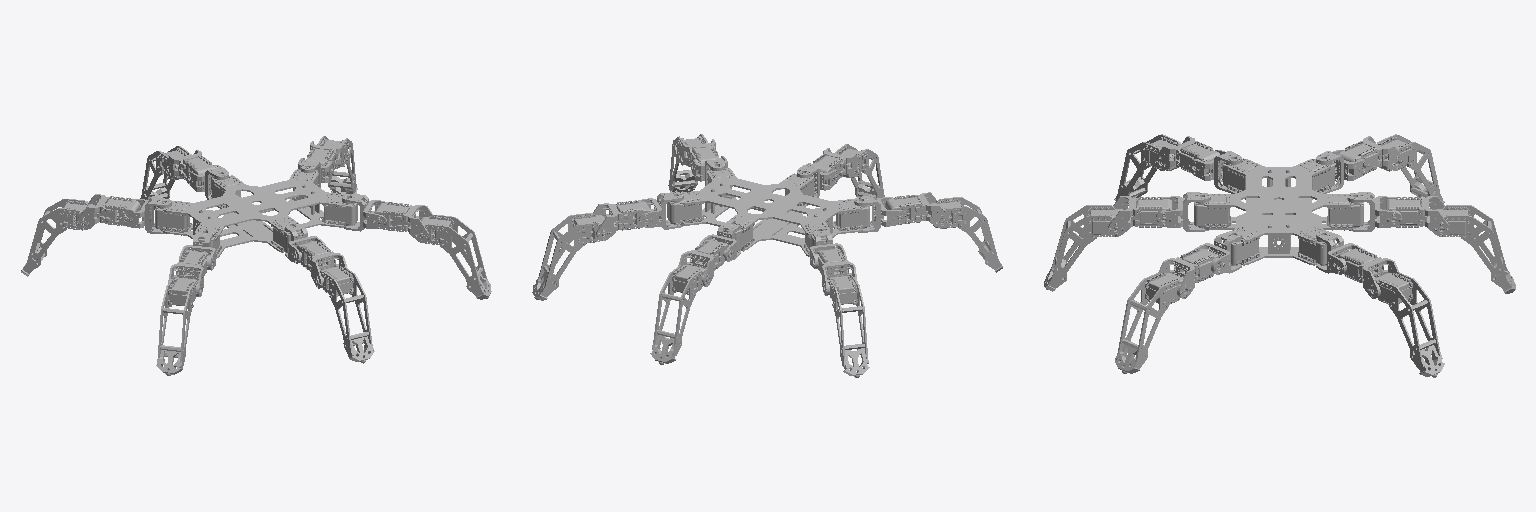
--- Render facts (derived) ---
Views: 3 orthographic renders of the robot side by side, from view 1: azimuth 30°, elevation 25°; view 2: azimuth 150°, elevation 25°; view 3: azimuth 270°, elevation 25°.
Model hexapod with 20 links and 19 joints (18 revolute, 1 fixed), rooted at world, posed all joints at 0.
Links seen in each view (by area): view 1: torso, RM_foot, RF_foot, RB_foot, LB_foot, RF_calf, LB_calf, LM_foot, RM_calf, LF_foot, LB_thigh, RB_calf (+7 smaller); view 2: torso, LM_foot, LF_foot, LB_foot, RB_foot, LF_calf, RB_calf, RM_foot, LM_calf, RB_thigh, RF_foot, LB_calf (+7 smaller); view 3: torso, LF_foot, RF_foot, LM_foot, RM_foot, LB_foot, RB_foot, RM_calf, LM_calf, RF_calf, LF_calf, LB_calf (+7 smaller).
Link boxes in pixels (x1,y1,x2,y2): torso: (155,169,357,258); RM_foot: (320,266,374,363); RF_foot: (421,215,491,299); RB_foot: (156,277,197,375); LB_foot: (21,199,97,276); RF_calf: (374,202,432,242); LB_calf: (76,194,139,229); LM_foot: (140,146,191,209); RM_calf: (297,241,346,288); LF_foot: (317,136,357,193); LB_thigh: (119,197,171,233); RB_calf: (168,250,207,296); torso: (667,168,869,256); LM_foot: (650,265,705,364); LF_foot: (532,213,608,300); LB_foot: (828,276,869,377); RB_foot: (928,197,1002,272); LF_calf: (593,200,651,240); RB_calf: (885,192,948,228); RM_foot: (835,144,884,205); LM_calf: (678,240,728,286); RB_thigh: (854,195,906,232); RF_foot: (668,134,707,192); LB_calf: (817,249,857,295); torso: (1194,158,1363,265); LF_foot: (1375,272,1444,377); RF_foot: (1115,272,1183,373); LM_foot: (1435,205,1515,293); RM_foot: (1044,205,1122,291); LB_foot: (1377,134,1444,206); RB_foot: (1114,134,1180,205); RM_calf: (1108,196,1172,236); LM_calf: (1386,196,1449,236); RF_calf: (1158,248,1219,298); LF_calf: (1338,248,1398,298); LB_calf: (1338,136,1402,173).
Size in the robot's own frame: 0.5707 by 0.6368 by 0.1445 metres.
19 mesh visuals loaded from 19 distinct referenced files (19 OBJ).

URDF robot description (hexapod):
<?xml version="1.0" encoding="utf-8"?>
<robot name="hexapod">
    <link name="world"/>
    <joint name="base_static_joint" type="fixed">
        <origin rpy="1.570796 0 1.570796" xyz="0 0 1.0"/>
        <parent link="world"/>
        <child link="torso"/>
    </joint>
    <link
    name="torso">
    <inertial>
      <origin
        xyz="0 0 0"
        rpy="0 0 0" />
      <mass
        value="0.731212290700735" />
      <inertia
        ixx="0.0016575064168216"
        ixy="2.75745412968942E-16"
        ixz="-2.62507796666836E-08"
        iyy="0.00222717882817625"
        iyz="-1.46660187871453E-10"
        izz="0.000634194193879194" />
    </inertial>
    <visual>
      <origin
        xyz="0 0 0"
        rpy="0 0 0" />
      <geometry>
        <mesh
          filename="../meshes/torso.obj" />
      </geometry>
      <material
        name="">
        <color
          rgba="0.752941176470588 0.752941176470588 0.752941176470588 1" />
      </material>
    </visual>
    <collision>
      <origin
        xyz="0 0 0"
        rpy="0 0 0" />
      <geometry>
        <mesh
          filename="../meshes/torso.obj" />
      </geometry>
    </collision>
  </link>
  <link
    name="LF_thigh">
    <inertial>
      <origin
        xyz="-0.0189187135333139 0.000478712531283593 -0.0260043189660494"
        rpy="0 0 0" />
      <mass
        value="0.0376750978794186" />
      <inertia
        ixx="1.0382676450319E-05"
        ixy="-4.82870833016279E-12"
        ixz="2.19742306492605E-10"
        iyy="1.03826762029704E-05"
        iyz="2.07177635224845E-10"
        izz="1.33200924059604E-05" />
    </inertial>
    <visual>
      <origin
        xyz="0 0 0"
        rpy="0 0 0" />
      <geometry>
        <mesh
          filename="../meshes/LF_thigh.obj" />
      </geometry>
      <material
        name="">
        <color
          rgba="0.752941176470588 0.752941176470588 0.752941176470588 1" />
      </material>
    </visual>
    <collision>
      <origin
        xyz="0 0 0"
        rpy="0 0 0" />
      <geometry>
        <mesh
          filename="../meshes/LF_thigh.obj" />
      </geometry>
    </collision>
  </link>
  <joint
    name="LF1"
    type="revolute">
    <origin
      xyz="0.06091 0 0.12191"
      rpy="2.3562 0 -1.5708" />
    <parent
      link="torso" />
    <child
      link="LF_thigh" />
    <axis
      xyz="1 0 0" />
    <limit
      lower="-2.62"
      upper="2.62"
      effort="1.5"
      velocity="5" />
  </joint>
  <link
    name="LF_calf">
    <inertial>
      <origin
        xyz="0.0011883822058934 -0.0257706902685676 -0.000595468171442112"
        rpy="0 0 0" />
      <mass
        value="0.0806793209031788" />
      <inertia
        ixx="2.3728117388116E-05"
        ixy="6.91383343596089E-07"
        ixz="-1.86927058499739E-09"
        iyy="1.76778066861672E-05"
        iyz="-2.42616654359594E-07"
        izz="1.65430482663351E-05" />
    </inertial>
    <visual>
      <origin
        xyz="0 0 0"
        rpy="0 0 0" />
      <geometry>
        <mesh
          filename="../meshes/LF_calf.obj" />
      </geometry>
      <material
        name="">
        <color
          rgba="0.752941176470588 0.752941176470588 0.752941176470588 1" />
      </material>
    </visual>
    <collision>
      <origin
        xyz="0 0 0"
        rpy="0 0 0" />
      <geometry>
        <mesh
          filename="../meshes/LF_calf.obj" />
      </geometry>
    </collision>
  </link>
  <joint
    name="LF2"
    type="revolute">
    <origin
      xyz="-0.01844 0 -0.052"
      rpy="1.5708 0 0" />
    <parent
      link="LF_thigh" />
    <child
      link="LF_calf" />
    <axis
      xyz="0 0 1" />
    <limit
      lower="-2.62"
      upper="2.62"
      effort="1.5"
      velocity="5" />
  </joint>
  <link
    name="LF_foot">
    <inertial>
      <origin
        xyz="0.0260368249252049 -0.0404597860340416 -0.000363415281257676"
        rpy="0 0 0" />
      <mass
        value="0.103482657185437" />
      <inertia
        ixx="2.77294583593127E-05"
        ixy="1.34850250437592E-05"
        ixz="-1.89527590732161E-09"
        iyy="3.65156462038506E-05"
        iyz="-2.42567822476693E-07"
        izz="4.94335795823809E-05" />
    </inertial>
    <visual>
      <origin
        xyz="0 0 0"
        rpy="0 0 0" />
      <geometry>
        <mesh
          filename="../meshes/LF_foot.obj" />
      </geometry>
      <material
        name="">
        <color
          rgba="0.752941176470588 0.752941176470588 0.752941176470588 1" />
      </material>
    </visual>
    <collision>
      <origin
        xyz="0 0 0"
        rpy="0 0 0" />
      <geometry>
        <mesh
          filename="../meshes/LF_foot.obj" />
      </geometry>
    </collision>
  </link>
  <joint
    name="LF3"
    type="revolute">
    <origin
      xyz="0.014589 -0.06443 0"
      rpy="0 0 0.003125" />
    <parent
      link="LF_calf" />
    <child
      link="LF_foot" />
    <axis
      xyz="0 0 1" />
    <limit
      lower="-2.62"
      upper="2.62"
      effort="1.5"
      velocity="5" />
  </joint>
  <link
    name="LM_thigh">
    <inertial>
      <origin
        xyz="-0.0189187144776559 0.000478714468876692 -0.0260043724674276"
        rpy="0 0 0" />
      <mass
        value="0.0376751009203242" />
      <inertia
        ixx="1.03826695315805E-05"
        ixy="-4.98915057940367E-12"
        ixz="2.12172123274005E-10"
        iyy="1.03826695315805E-05"
        iyz="2.12171092886712E-10"
        izz="1.33200927078181E-05" />
    </inertial>
    <visual>
      <origin
        xyz="0 0 0"
        rpy="0 0 0" />
      <geometry>
        <mesh
          filename="../meshes/LM_thigh.obj" />
      </geometry>
      <material
        name="">
        <color
          rgba="0.752941176470588 0.752941176470588 0.752941176470588 1" />
      </material>
    </visual>
    <collision>
      <origin
        xyz="0 0 0"
        rpy="0 0 0" />
      <geometry>
        <mesh
          filename="../meshes/LM_thigh.obj" />
      </geometry>
    </collision>
  </link>
  <joint
    name="LM1"
    type="revolute">
    <origin
      xyz="0.1035 0 0"
      rpy="1.5708 0 -1.5708" />
    <parent
      link="torso" />
    <child
      link="LM_thigh" />
    <axis
      xyz="1 0 0" />
    <limit
      lower="-2.62"
      upper="2.62"
      effort="1.5"
      velocity="5" />
  </joint>
  <link
    name="LM_calf">
    <inertial>
      <origin
        xyz="0.00118838231960932 -0.025770698950229 -0.000595469030781378"
        rpy="0 0 0" />
      <mass
        value="0.0806793230410402" />
      <inertia
        ixx="2.372813040667E-05"
        ixy="6.91387181200164E-07"
        ixz="-1.86911320278935E-09"
        iyy="1.76778070616522E-05"
        iyz="-2.42614136009203E-07"
        izz="1.65430614484109E-05" />
    </inertial>
    <visual>
      <origin
        xyz="0 0 0"
        rpy="0 0 0" />
      <geometry>
        <mesh
          filename="../meshes/LM_calf.obj" />
      </geometry>
      <material
        name="">
        <color
          rgba="0.752941176470588 0.752941176470588 0.752941176470588 1" />
      </material>
    </visual>
    <collision>
      <origin
        xyz="0 0 0"
        rpy="0 0 0" />
      <geometry>
        <mesh
          filename="../meshes/LM_calf.obj" />
      </geometry>
    </collision>
  </link>
  <joint
    name="LM2"
    type="revolute">
    <origin
      xyz="-0.01844 0 -0.052"
      rpy="1.5708 0 0" />
    <parent
      link="LM_thigh" />
    <child
      link="LM_calf" />
    <axis
      xyz="0 0 1" />
    <limit
      lower="-2.62"
      upper="2.62"
      effort="1.5"
      velocity="5" />
  </joint>
  <link
    name="LM_foot">
    <inertial>
      <origin
        xyz="0.0260368352823269 -0.0404597921966018 -0.000363415322185633"
        rpy="0 0 0" />
      <mass
        value="0.103482647116765" />
      <inertia
        ixx="2.77294580425894E-05"
        ixy="1.34850250509666E-05"
        ixz="-1.89526129533979E-09"
        iyy="3.65156463296133E-05"
        iyz="-2.42567843681905E-07"
        izz="4.94335793127813E-05" />
    </inertial>
    <visual>
      <origin
        xyz="0 0 0"
        rpy="0 0 0" />
      <geometry>
        <mesh
          filename="../meshes/LM_foot.obj" />
      </geometry>
      <material
        name="">
        <color
          rgba="0.752941176470588 0.752941176470588 0.752941176470588 1" />
      </material>
    </visual>
    <collision>
      <origin
        xyz="0 0 0"
        rpy="0 0 0" />
      <geometry>
        <mesh
          filename="../meshes/LM_foot.obj" />
      </geometry>
    </collision>
  </link>
  <joint
    name="LM3"
    type="revolute">
    <origin
      xyz="0.014589 -0.06443 0"
      rpy="0 0 0.003125" />
    <parent
      link="LM_calf" />
    <child
      link="LM_foot" />
    <axis
      xyz="0 0 1" />
    <limit
      lower="-2.62"
      upper="2.62"
      effort="1.5"
      velocity="5" />
  </joint>
  <link
    name="LB_thigh">
    <inertial>
      <origin
        xyz="-0.0189187135333139 0.000478712531283773 -0.0260043189660493"
        rpy="0 0 0" />
      <mass
        value="0.0376750978794186" />
      <inertia
        ixx="1.0382676450319E-05"
        ixy="-4.8287083319338E-12"
        ixz="2.19742306490552E-10"
        iyy="1.03826762029704E-05"
        iyz="2.07177635228656E-10"
        izz="1.33200924059604E-05" />
    </inertial>
    <visual>
      <origin
        xyz="0 0 0"
        rpy="0 0 0" />
      <geometry>
        <mesh
          filename="../meshes/LB_thigh.obj" />
      </geometry>
      <material
        name="">
        <color
          rgba="0.752941176470588 0.752941176470588 0.752941176470588 1" />
      </material>
    </visual>
    <collision>
      <origin
        xyz="0 0 0"
        rpy="0 0 0" />
      <geometry>
        <mesh
          filename="../meshes/LB_thigh.obj" />
      </geometry>
    </collision>
  </link>
  <joint
    name="LB1"
    type="revolute">
    <origin
      xyz="0.06091 0 -0.12191"
      rpy="0.7854 0 -1.5708" />
    <parent
      link="torso" />
    <child
      link="LB_thigh" />
    <axis
      xyz="1 0 0" />
    <limit
      lower="-2.62"
      upper="2.62"
      effort="1.5"
      velocity="5" />
  </joint>
  <link
    name="LB_calf">
    <inertial>
      <origin
        xyz="0.00118838220589342 -0.0257706902685676 -0.000595468171442057"
        rpy="0 0 0" />
      <mass
        value="0.0806793209031789" />
      <inertia
        ixx="2.37281173881159E-05"
        ixy="6.91383343596082E-07"
        ixz="-1.86927058499686E-09"
        iyy="1.76778066861671E-05"
        iyz="-2.42616654359596E-07"
        izz="1.65430482663351E-05" />
    </inertial>
    <visual>
      <origin
        xyz="0 0 0"
        rpy="0 0 0" />
      <geometry>
        <mesh
          filename="../meshes/LB_calf.obj" />
      </geometry>
      <material
        name="">
        <color
          rgba="0.752941176470588 0.752941176470588 0.752941176470588 1" />
      </material>
    </visual>
    <collision>
      <origin
        xyz="0 0 0"
        rpy="0 0 0" />
      <geometry>
        <mesh
          filename="../meshes/LB_calf.obj" />
      </geometry>
    </collision>
  </link>
  <joint
    name="LB2"
    type="revolute">
    <origin
      xyz="-0.01844 0 -0.052"
      rpy="1.5708 0 0" />
    <parent
      link="LB_thigh" />
    <child
      link="LB_calf" />
    <axis
      xyz="0 0 1" />
    <limit
      lower="-2.62"
      upper="2.62"
      effort="1.5"
      velocity="5" />
  </joint>
  <link
    name="LB_foot">
    <inertial>
      <origin
        xyz="0.0260368249252049 -0.0404597860340416 -0.000363415281257801"
        rpy="0 0 0" />
      <mass
        value="0.103482657185437" />
      <inertia
        ixx="2.77294583593127E-05"
        ixy="1.34850250437591E-05"
        ixz="-1.89527590732469E-09"
        iyy="3.65156462038505E-05"
        iyz="-2.42567822476683E-07"
        izz="4.94335795823807E-05" />
    </inertial>
    <visual>
      <origin
        xyz="0 0 0"
        rpy="0 0 0" />
      <geometry>
        <mesh
          filename="../meshes/LB_foot.obj" />
      </geometry>
      <material
        name="">
        <color
          rgba="0.752941176470588 0.752941176470588 0.752941176470588 1" />
      </material>
    </visual>
    <collision>
      <origin
        xyz="0 0 0"
        rpy="0 0 0" />
      <geometry>
        <mesh
          filename="../meshes/LB_foot.obj" />
      </geometry>
    </collision>
  </link>
  <joint
    name="LB3"
    type="revolute">
    <origin
      xyz="0.014589 -0.06443 0"
      rpy="0 0 0.003125" />
    <parent
      link="LB_calf" />
    <child
      link="LB_foot" />
    <axis
      xyz="0 0 1" />
    <limit
      lower="-2.62"
      upper="2.62"
      effort="1.5"
      velocity="5" />
  </joint>
  <link
    name="RF_thigh">
    <inertial>
      <origin
        xyz="-0.0189188020479903 0.0004788008459801 0.0260043353596263"
        rpy="0 0 0" />
      <mass
        value="0.0376758208259914" />
      <inertia
        ixx="1.03828764673456E-05"
        ixy="-3.25408417105759E-11"
        ixz="-3.46294905024722E-10"
        iyy="1.03828761205044E-05"
        iyz="-3.38463493359526E-10"
        izz="1.33203665739127E-05" />
    </inertial>
    <visual>
      <origin
        xyz="0 0 0"
        rpy="0 0 0" />
      <geometry>
        <mesh
          filename="../meshes/RF_thigh.obj" />
      </geometry>
      <material
        name="">
        <color
          rgba="0.752941176470588 0.752941176470588 0.752941176470588 1" />
      </material>
    </visual>
    <collision>
      <origin
        xyz="0 0 0"
        rpy="0 0 0" />
      <geometry>
        <mesh
          filename="../meshes/RF_thigh.obj" />
      </geometry>
    </collision>
  </link>
  <joint
    name="RF1"
    type="revolute">
    <origin
      xyz="-0.06091 0 0.12191"
      rpy="0.7854 0 -1.5708" />
    <parent
      link="torso" />
    <child
      link="RF_thigh" />
    <axis
      xyz="1 0 0" />
    <limit
      lower="-2.62"
      upper="2.62"
      effort="1.5"
      velocity="5" />
  </joint>
  <link
    name="RF_calf">
    <inertial>
      <origin
        xyz="0.00118839518367737 -0.0257708228212739 0.000595485012719429"
        rpy="0 0 0" />
      <mass
        value="0.0806796977247256" />
      <inertia
        ixx="2.37283014240176E-05"
        ixy="6.91400096383682E-07"
        ixz="1.80359367203847E-09"
        iyy="1.76779113483845E-05"
        iyz="2.42640650049935E-07"
        izz="1.65430957295547E-05" />
    </inertial>
    <visual>
      <origin
        xyz="0 0 0"
        rpy="0 0 0" />
      <geometry>
        <mesh
          filename="../meshes/RF_calf.obj" />
      </geometry>
      <material
        name="">
        <color
          rgba="0.752941176470588 0.752941176470588 0.752941176470588 1" />
      </material>
    </visual>
    <collision>
      <origin
        xyz="0 0 0"
        rpy="0 0 0" />
      <geometry>
        <mesh
          filename="../meshes/RF_calf.obj" />
      </geometry>
    </collision>
  </link>
  <joint
    name="RF2"
    type="revolute">
    <origin
      xyz="-0.01844 0 0.052"
      rpy="-1.5708 0 0" />
    <parent
      link="RF_thigh" />
    <child
      link="RF_calf" />
    <axis
      xyz="0 0 1" />
    <limit
      lower="-2.62"
      upper="2.62"
      effort="1.5"
      velocity="5" />
  </joint>
  <link
    name="RF_foot">
    <inertial>
      <origin
        xyz="0.025152401746314 -0.0399190614070512 0.000363400913231504"
        rpy="0 0 0" />
      <mass
        value="0.103482767086738" />
      <inertia
        ixx="2.77294724207739E-05"
        ixy="1.34850252911508E-05"
        ixz="1.89619129988271E-09"
        iyy="3.65156683610864E-05"
        iyz="2.42562432300115E-07"
        izz="4.94335675939808E-05" />
    </inertial>
    <visual>
      <origin
        xyz="0 0 0"
        rpy="0 0 0" />
      <geometry>
        <mesh
          filename="../meshes/RF_foot.obj" />
      </geometry>
      <material
        name="">
        <color
          rgba="0.752941176470588 0.752941176470588 0.752941176470588 1" />
      </material>
    </visual>
    <collision>
      <origin
        xyz="0 0 0"
        rpy="0 0 0" />
      <geometry>
        <mesh
          filename="../meshes/RF_foot.obj" />
      </geometry>
    </collision>
  </link>
  <joint
    name="RF3"
    type="revolute">
    <origin
      xyz="0.014589 -0.06443 0"
      rpy="0 0 0.003125" />
    <parent
      link="RF_calf" />
    <child
      link="RF_foot" />
    <axis
      xyz="0 0 1" />
    <limit
      lower="-2.62"
      upper="2.62"
      effort="1.5"
      velocity="5" />
  </joint>
  <link
    name="RM_thigh">
    <inertial>
      <origin
        xyz="-0.0189188023390825 0.000478802347846598 0.0260043723573318"
        rpy="0 0 0" />
      <mass
        value="0.0376758228348441" />
      <inertia
        ixx="1.03828709694775E-05"
        ixy="-3.26232367539305E-11"
        ixz="-3.41920389664023E-10"
        iyy="1.03828709694775E-05"
        iyz="-3.41921417828021E-10"
        izz="1.33203669609511E-05" />
    </inertial>
    <visual>
      <origin
        xyz="0 0 0"
        rpy="0 0 0" />
      <geometry>
        <mesh
          filename="../meshes/RM_thigh.obj" />
      </geometry>
      <material
        name="">
        <color
          rgba="0.752941176470588 0.752941176470588 0.752941176470588 1" />
      </material>
    </visual>
    <collision>
      <origin
        xyz="0 0 0"
        rpy="0 0 0" />
      <geometry>
        <mesh
          filename="../meshes/RM_thigh.obj" />
      </geometry>
    </collision>
  </link>
  <joint
    name="RM1"
    type="revolute">
    <origin
      xyz="-0.1035 0 0"
      rpy="1.5708 0 -1.5708" />
    <parent
      link="torso" />
    <child
      link="RM_thigh" />
    <axis
      xyz="1 0 0" />
    <limit
      lower="-2.62"
      upper="2.62"
      effort="1.5"
      velocity="5" />
  </joint>
  <link
    name="RM_calf">
    <inertial>
      <origin
        xyz="0.00118839539756592 -0.0257708287030725 0.000595485605075673"
        rpy="0 0 0" />
      <mass
        value="0.0806796995241699" />
      <inertia
        ixx="2.37283095434187E-05"
        ixy="6.91403722860562E-07"
        ixz="1.80350446805661E-09"
        iyy="1.76779117425198E-05"
        iyz="2.42636609758678E-07"
        izz="1.6543104205585E-05" />
    </inertial>
    <visual>
      <origin
        xyz="0 0 0"
        rpy="0 0 0" />
      <geometry>
        <mesh
          filename="../meshes/RM_calf.obj" />
      </geometry>
      <material
        name="">
        <color
          rgba="0.752941176470588 0.752941176470588 0.752941176470588 1" />
      </material>
    </visual>
    <collision>
      <origin
        xyz="0 0 0"
        rpy="0 0 0" />
      <geometry>
        <mesh
          filename="../meshes/RM_calf.obj" />
      </geometry>
    </collision>
  </link>
  <joint
    name="RM2"
    type="revolute">
    <origin
      xyz="-0.01844 0 0.052"
      rpy="-1.5708 0 0" />
    <parent
      link="RM_thigh" />
    <child
      link="RM_calf" />
    <axis
      xyz="0 0 1" />
    <limit
      lower="-2.62"
      upper="2.62"
      effort="1.5"
      velocity="5" />
  </joint>
  <link
    name="RM_foot">
    <inertial>
      <origin
        xyz="0.0251524065902219 -0.0399190635592102 0.00036340086753898"
        rpy="0 0 0" />
      <mass
        value="0.10348275106474" />
      <inertia
        ixx="2.77294721194689E-05"
        ixy="1.34850252920998E-05"
        ixz="1.89619266653238E-09"
        iyy="3.65156684447897E-05"
        iyz="2.42562431527922E-07"
        izz="4.9433567404597E-05" />
    </inertial>
    <visual>
      <origin
        xyz="0 0 0"
        rpy="0 0 0" />
      <geometry>
        <mesh
          filename="../meshes/RM_foot.obj" />
      </geometry>
      <material
        name="">
        <color
          rgba="0.752941176470588 0.752941176470588 0.752941176470588 1" />
      </material>
    </visual>
    <collision>
      <origin
        xyz="0 0 0"
        rpy="0 0 0" />
      <geometry>
        <mesh
          filename="../meshes/RM_foot.obj" />
      </geometry>
    </collision>
  </link>
  <joint
    name="RM3"
    type="revolute">
    <origin
      xyz="0.014589 -0.06443 0"
      rpy="0 0 0.003125" />
    <parent
      link="RM_calf" />
    <child
      link="RM_foot" />
    <axis
      xyz="0 0 1" />
    <limit
      lower="-2.62"
      upper="2.62"
      effort="1.5"
      velocity="5" />
  </joint>
  <link
    name="RB_thigh">
    <inertial>
      <origin
        xyz="-0.0189188020479903 0.000478800845980197 0.0260043353596263"
        rpy="0 0 0" />
      <mass
        value="0.0376758208259914" />
      <inertia
        ixx="1.03828764673456E-05"
        ixy="-3.25408417113E-11"
        ixz="-3.46294905019157E-10"
        iyy="1.03828761205044E-05"
        iyz="-3.38463493343009E-10"
        izz="1.33203665739127E-05" />
    </inertial>
    <visual>
      <origin
        xyz="0 0 0"
        rpy="0 0 0" />
      <geometry>
        <mesh
          filename="../meshes/RB_thigh.obj" />
      </geometry>
      <material
        name="">
        <color
          rgba="0.752941176470588 0.752941176470588 0.752941176470588 1" />
      </material>
    </visual>
    <collision>
      <origin
        xyz="0 0 0"
        rpy="0 0 0" />
      <geometry>
        <mesh
          filename="../meshes/RB_thigh.obj" />
      </geometry>
    </collision>
  </link>
  <joint
    name="RB1"
    type="revolute">
    <origin
      xyz="-0.06091 0 -0.12191"
      rpy="2.3562 0 -1.5708" />
    <parent
      link="torso" />
    <child
      link="RB_thigh" />
    <axis
      xyz="1 0 0" />
    <limit
      lower="-2.62"
      upper="2.62"
      effort="1.5"
      velocity="5" />
  </joint>
  <link
    name="RB_calf">
    <inertial>
      <origin
        xyz="0.00118839518367737 -0.0257708228212741 0.000595485012719332"
        rpy="0 0 0" />
      <mass
        value="0.0806796977247256" />
      <inertia
        ixx="2.37283014240176E-05"
        ixy="6.91400096383681E-07"
        ixz="1.80359367202841E-09"
        iyy="1.76779113483845E-05"
        iyz="2.42640650049938E-07"
        izz="1.65430957295547E-05" />
    </inertial>
    <visual>
      <origin
        xyz="0 0 0"
        rpy="0 0 0" />
      <geometry>
        <mesh
          filename="../meshes/RB_calf.obj" />
      </geometry>
      <material
        name="">
        <color
          rgba="0.752941176470588 0.752941176470588 0.752941176470588 1" />
      </material>
    </visual>
    <collision>
      <origin
        xyz="0 0 0"
        rpy="0 0 0" />
      <geometry>
        <mesh
          filename="../meshes/RB_calf.obj" />
      </geometry>
    </collision>
  </link>
  <joint
    name="RB2"
    type="revolute">
    <origin
      xyz="-0.01844 0 0.052"
      rpy="-1.5708 0 0" />
    <parent
      link="RB_thigh" />
    <child
      link="RB_calf" />
    <axis
      xyz="0 0 1" />
    <limit
      lower="-2.62"
      upper="2.62"
      effort="1.5"
      velocity="5" />
  </joint>
  <link
    name="RB_foot">
    <inertial>
      <origin
        xyz="0.025152401746314 -0.0399190614070511 0.000363400913231143"
        rpy="0 0 0" />
      <mass
        value="0.103482767086738" />
      <inertia
        ixx="2.7729472420774E-05"
        ixy="1.34850252911508E-05"
        ixz="1.89619129990956E-09"
        iyy="3.65156683610865E-05"
        iyz="2.42562432300108E-07"
        izz="4.94335675939809E-05" />
    </inertial>
    <visual>
      <origin
        xyz="0 0 0"
        rpy="0 0 0" />
      <geometry>
        <mesh
          filename="../meshes/RB_foot.obj" />
      </geometry>
      <material
        name="">
        <color
          rgba="0.752941176470588 0.752941176470588 0.752941176470588 1" />
      </material>
    </visual>
    <collision>
      <origin
        xyz="0 0 0"
        rpy="0 0 0" />
      <geometry>
        <mesh
          filename="../meshes/RB_foot.obj" />
      </geometry>
    </collision>
  </link>
  <joint
    name="RB3"
    type="revolute">
    <origin
      xyz="0.014589 -0.06443 0"
      rpy="0 0 0.003125" />
    <parent
      link="RB_calf" />
    <child
      link="RB_foot" />
    <axis
      xyz="0 0 1" />
    <limit
      lower="-2.62"
      upper="2.62"
      effort="1.5"
      velocity="5" />
  </joint>
</robot>
